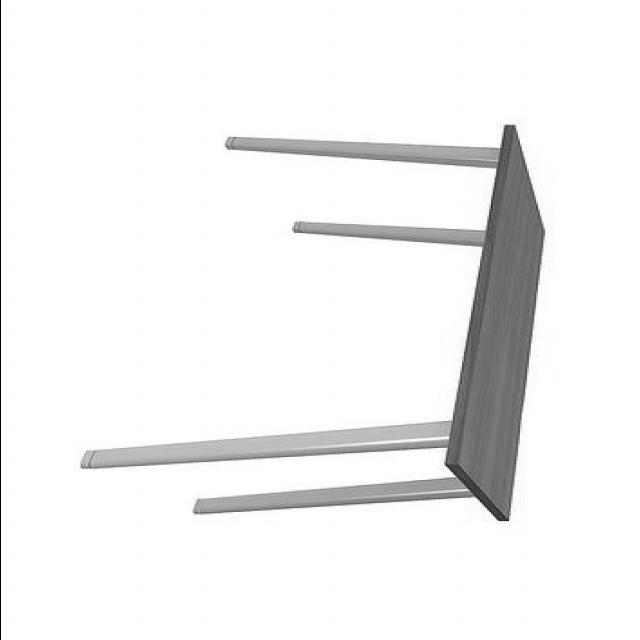table: (80, 124, 547, 522)
